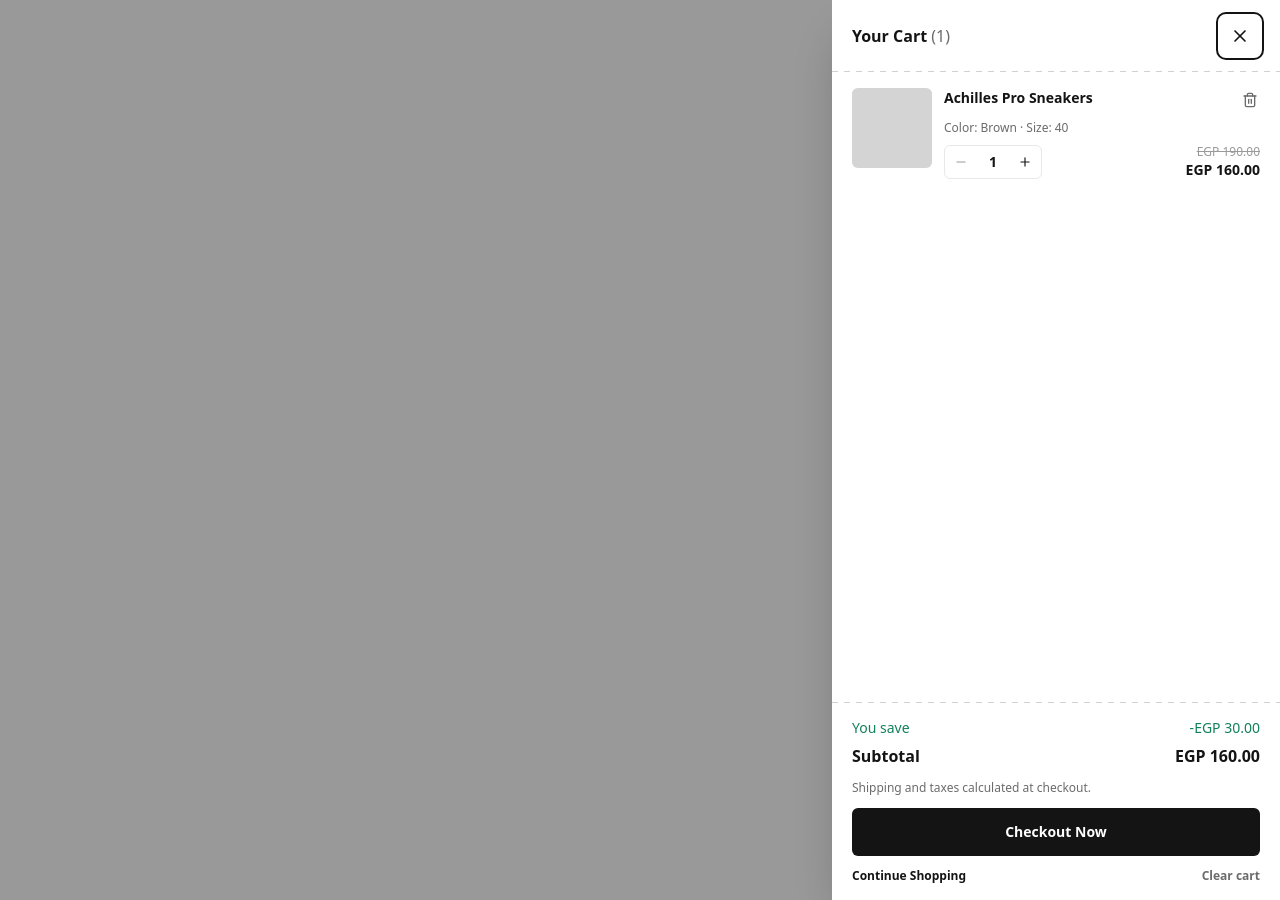
Test: CartDrawer › increments and decrements quantity, updating the subtotal
The image size is (1280, 900).
Later steps or results of the test are not shown.
Expected: the button named "decrease quantity" is disabled, [945, 146, 977, 178]
Step 1. Click the button named "increase quantity" → coordinates (1025, 162), box [1009, 146, 1041, 178]
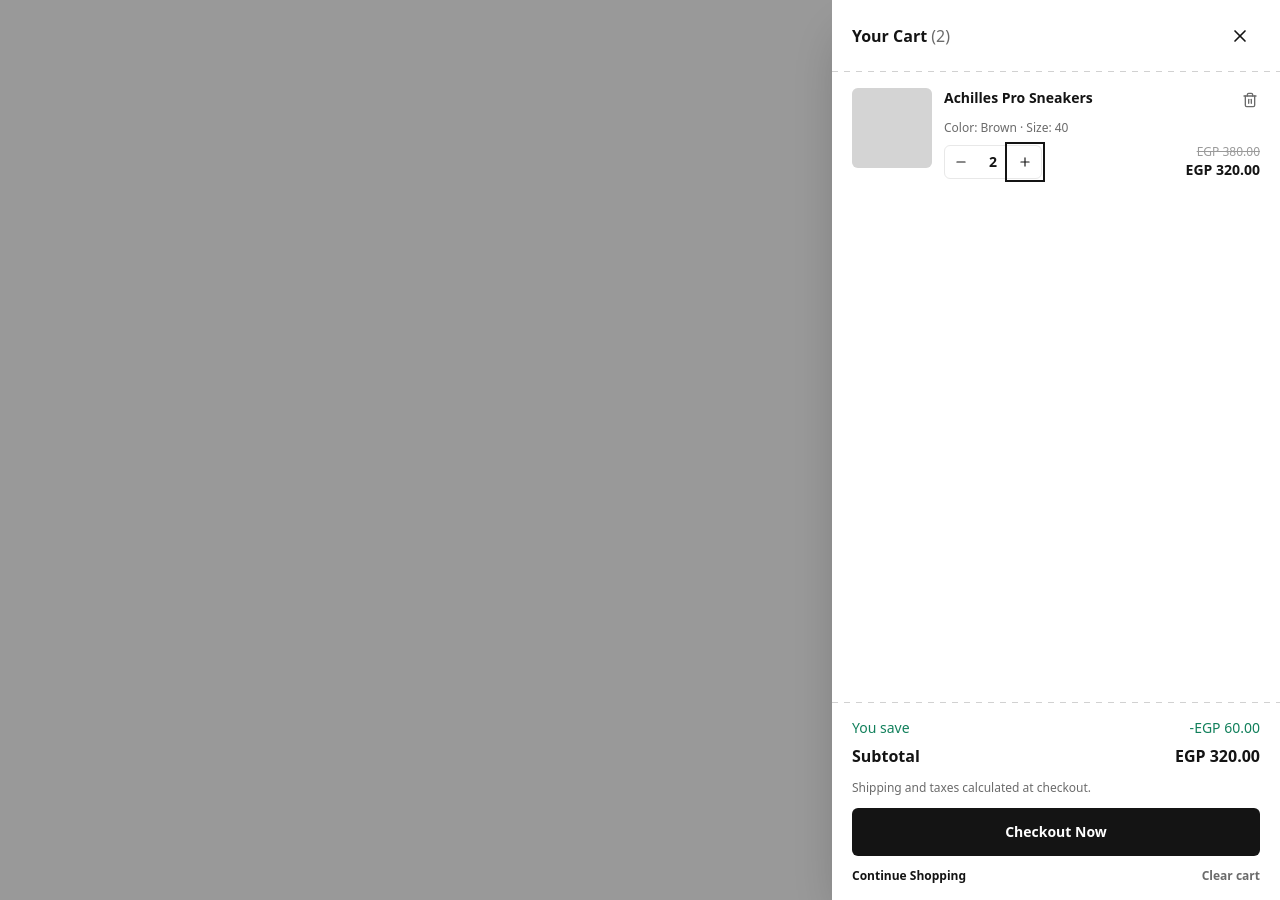
Step 2. Click the button named "increase quantity" → coordinates (1025, 162), box [1009, 146, 1041, 178]
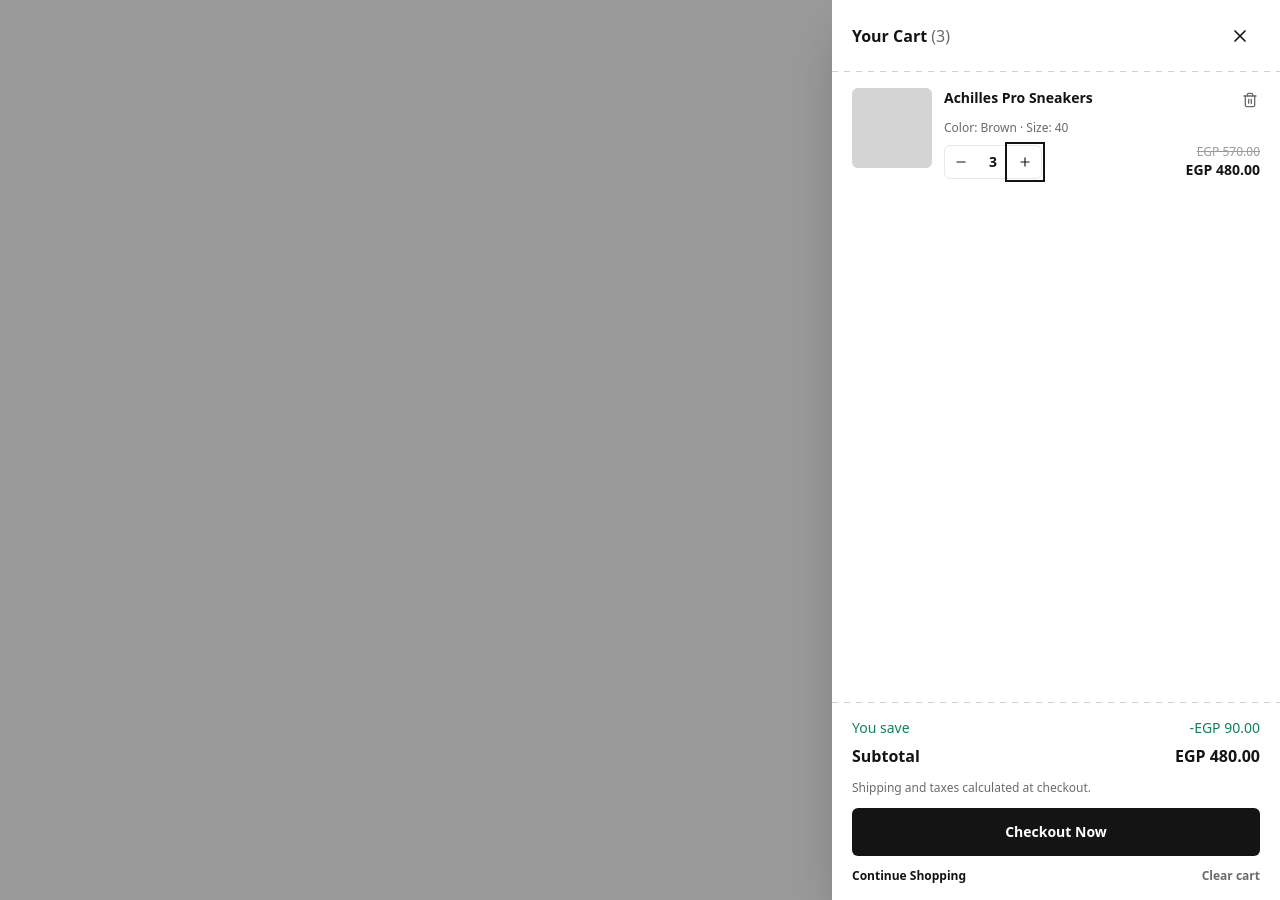
Expected: the text "EGP 480.00" in the row of "Subtotal" is shown, [1175, 745, 1260, 767]
